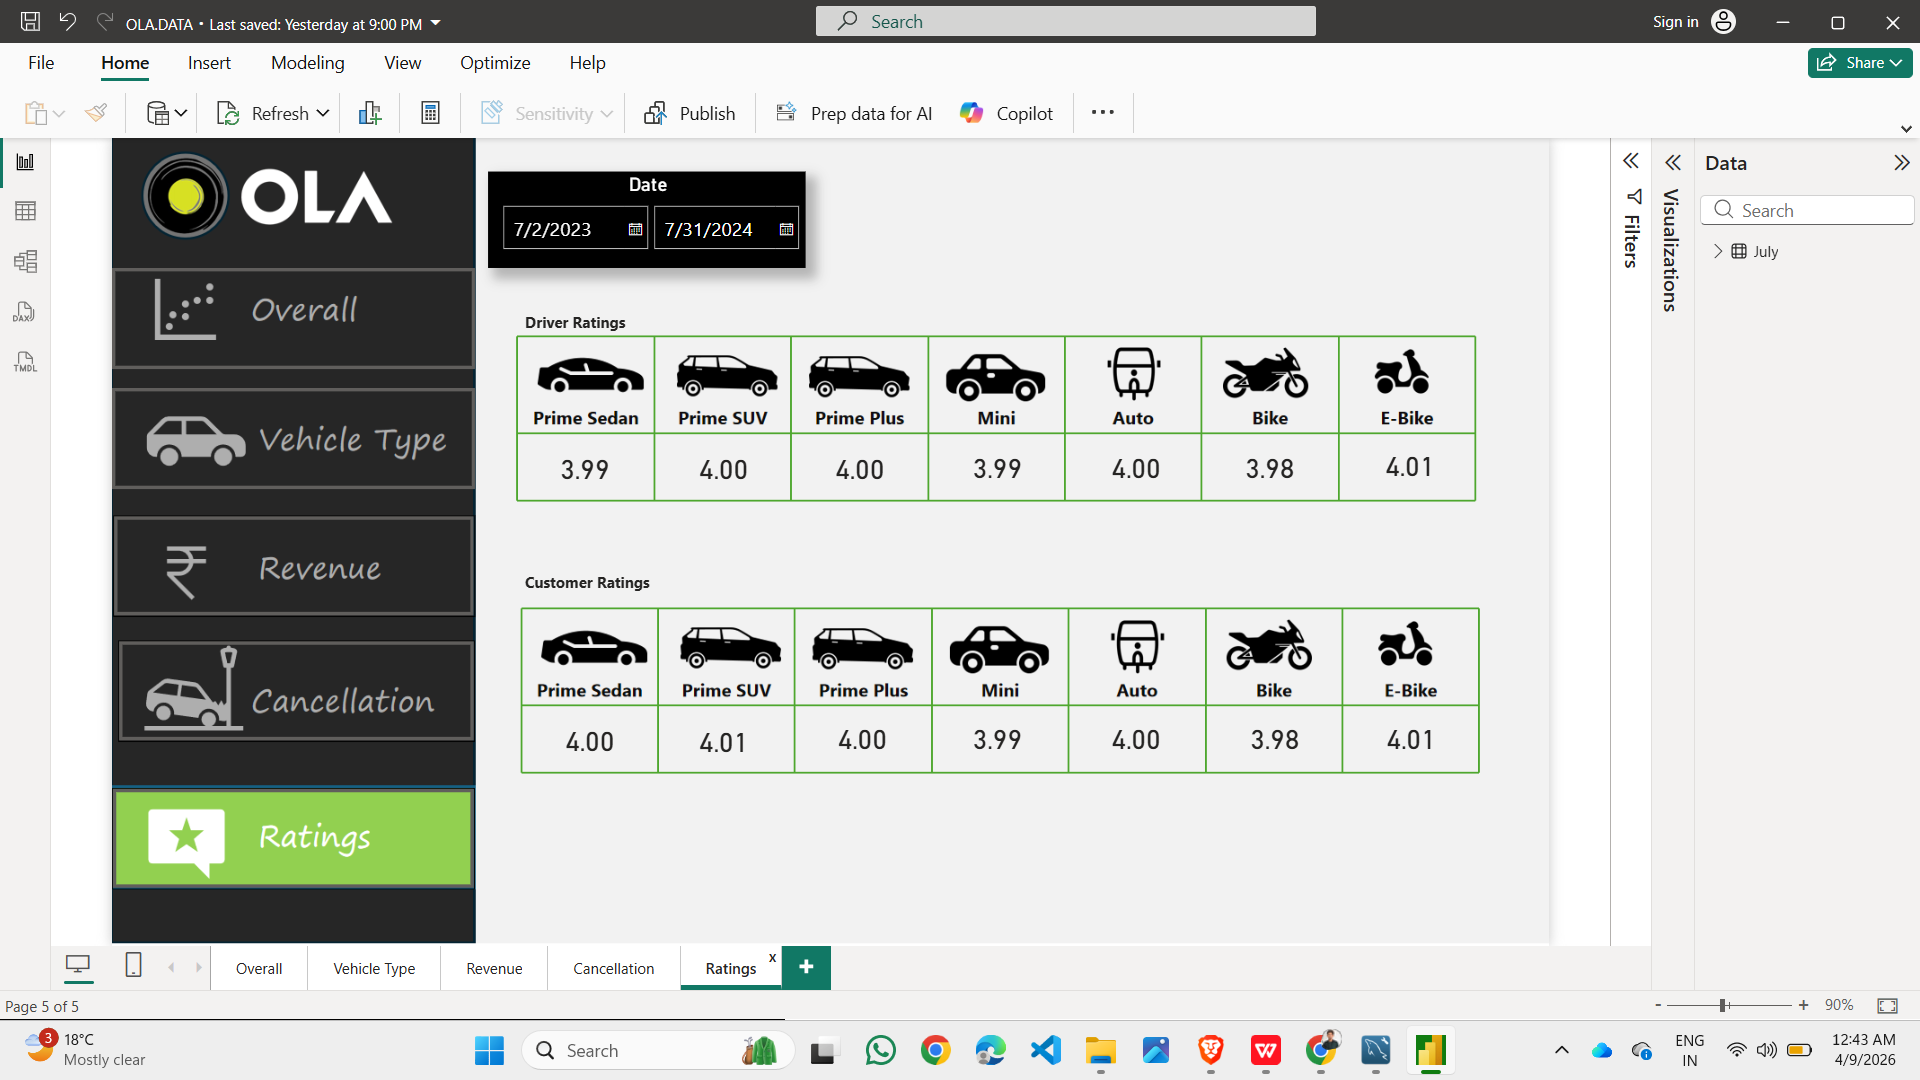

What the dashboard file says about the page in this screenshot:
{"tool":"powerbi","page":{"name":"Ratings","canvas":[1280,720],"ordinal":4},"visuals":[{"type":"actionButton","box":[0,222.2,323.3,90],"z":0},{"type":"actionButton","box":[1.1,336.7,322.2,90],"z":1000},{"type":"actionButton","box":[5.6,447.8,317.8,90],"z":2000},{"type":"actionButton","box":[0,578.9,323.3,90],"z":3000},{"type":"actionButton","box":[0,115.6,323.3,90],"z":4000},{"type":"card","fields":{"Values":["Avg(July.Driver_Ratings)"]},"box":[363.3,267.8,116.7,53.3],"z":5000},{"type":"card","fields":{"Values":["Avg(July.Driver_Ratings)"]},"box":[486.7,267.8,116.7,53.3],"z":6000},{"type":"card","fields":{"Values":["Avg(July.Driver_Ratings)"]},"box":[607.8,267.8,116.7,53.3],"z":7000},{"type":"card","fields":{"Values":["Avg(July.Driver_Ratings)"]},"box":[730,266.7,116.7,53.3],"z":8000},{"type":"card","fields":{"Values":["Avg(July.Driver_Ratings)"]},"box":[853.3,266.7,116.7,53.3],"z":9000},{"type":"card","fields":{"Values":["Avg(July.Driver_Ratings)"]},"box":[973.3,266.7,116.7,53.3],"z":10000},{"type":"card","fields":{"Values":["Avg(July.Driver_Ratings)"]},"box":[1097.8,261.1,116.7,60],"z":11000},{"type":"card","fields":{"Values":["Avg(July.Customer_Rating)"]},"box":[367.8,510,116.7,53.3],"z":12000},{"type":"card","fields":{"Values":["Avg(July.Driver_Ratings)"]},"box":[486.7,511.1,116.7,53.3],"z":13000},{"type":"card","fields":{"Values":["Avg(July.Driver_Ratings)"]},"box":[610,508.9,116.7,53.3],"z":14000},{"type":"card","fields":{"Values":["Avg(July.Driver_Ratings)"]},"box":[730,508.9,116.7,53.3],"z":15000},{"type":"card","fields":{"Values":["Avg(July.Driver_Ratings)"]},"box":[853.3,508.9,116.7,53.3],"z":16000},{"type":"card","fields":{"Values":["Avg(July.Driver_Ratings)"]},"box":[977.8,508.9,116.7,53.3],"z":17000},{"type":"card","fields":{"Values":["Avg(July.Driver_Ratings)"]},"box":[1098.9,508.9,116.7,53.3],"z":18000},{"type":"textbox","box":[363.3,150,138.9,27.8],"z":19000},{"type":"textbox","box":[363.3,382.2,150,34.4],"z":20000},{"type":"slicer","title":"Date","fields":{"Values":["July.Date"]},"box":[335.6,30,282.2,85.6],"z":21000}]}

Visuals, with their boxes on the page's 1280x720 design canvas (x1, y1, x2, y2). These are canvas units, not pixel positions in the 1920x1080 screenshot, which may show the page scaled, cropped or inside an application window:
actionButton: left=0, top=222, right=323, bottom=312
actionButton: left=1, top=337, right=323, bottom=427
actionButton: left=6, top=448, right=323, bottom=538
actionButton: left=0, top=579, right=323, bottom=669
actionButton: left=0, top=116, right=323, bottom=206
card - Avg(July.Driver_Ratings): left=363, top=268, right=480, bottom=321
card - Avg(July.Driver_Ratings): left=487, top=268, right=603, bottom=321
card - Avg(July.Driver_Ratings): left=608, top=268, right=724, bottom=321
card - Avg(July.Driver_Ratings): left=730, top=267, right=847, bottom=320
card - Avg(July.Driver_Ratings): left=853, top=267, right=970, bottom=320
card - Avg(July.Driver_Ratings): left=973, top=267, right=1090, bottom=320
card - Avg(July.Driver_Ratings): left=1098, top=261, right=1214, bottom=321
card - Avg(July.Customer_Rating): left=368, top=510, right=484, bottom=563
card - Avg(July.Driver_Ratings): left=487, top=511, right=603, bottom=564
card - Avg(July.Driver_Ratings): left=610, top=509, right=727, bottom=562
card - Avg(July.Driver_Ratings): left=730, top=509, right=847, bottom=562
card - Avg(July.Driver_Ratings): left=853, top=509, right=970, bottom=562
card - Avg(July.Driver_Ratings): left=978, top=509, right=1094, bottom=562
card - Avg(July.Driver_Ratings): left=1099, top=509, right=1216, bottom=562
textbox: left=363, top=150, right=502, bottom=178
textbox: left=363, top=382, right=513, bottom=417
"Date" slicer: left=336, top=30, right=618, bottom=116
